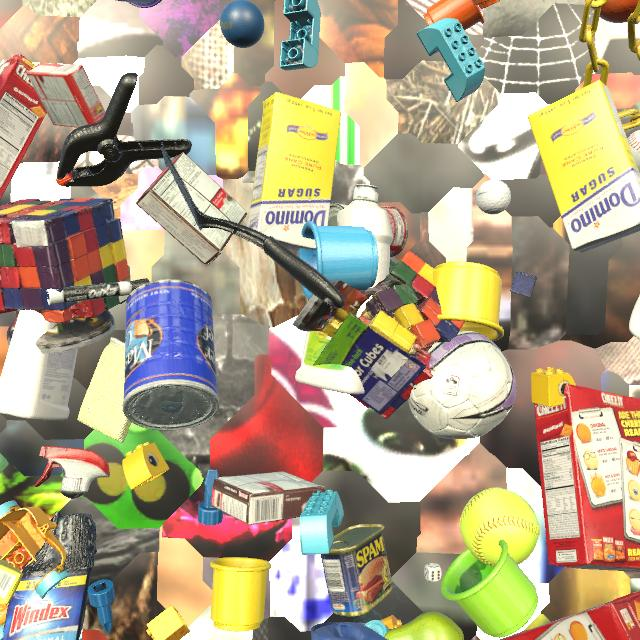ycb_002_master_chef_can: (122, 279, 219, 431)
ycb_003_cracker_box: (534, 384, 640, 572), (500, 591, 640, 640), (0, 54, 47, 199)
ycb_004_sugar_box: (528, 80, 640, 253), (246, 92, 341, 251), (0, 556, 23, 605)
ycb_005_tomato_soup_can: (328, 203, 408, 257)
ycb_008_pudding_box: (136, 152, 247, 266), (211, 471, 325, 525)
ycb_009_gelatin_box: (26, 63, 105, 128)
ycb_010_potted_meat_can: (320, 524, 393, 617)
ycb_016_pear: (384, 611, 464, 640)
ycb_017_orange: (593, 0, 639, 23)
